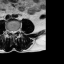CCS_normal: (12, 28, 14, 37)
LFS_normal: (16, 27, 18, 34)
LLS_normal: (14, 28, 16, 35)
RFS_normal: (8, 28, 10, 34)
RLS_normal: (10, 28, 12, 35)
